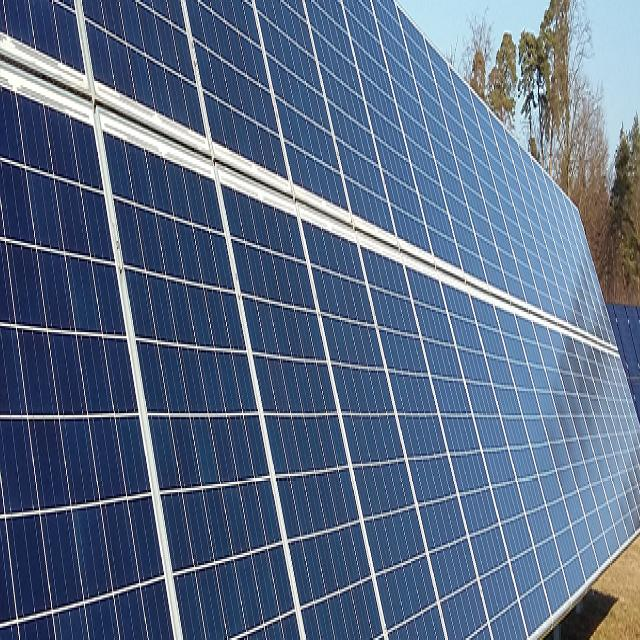Clean: (0, 0, 640, 640), (607, 306, 640, 425)
